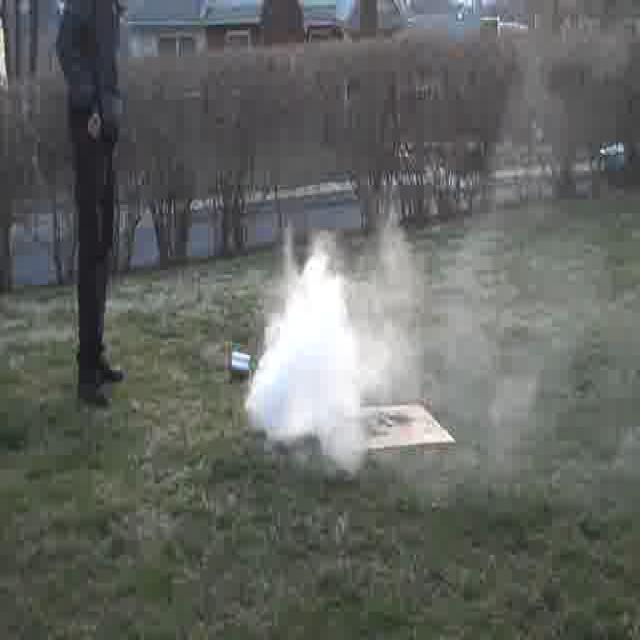Smoke: (256, 245, 368, 475)
